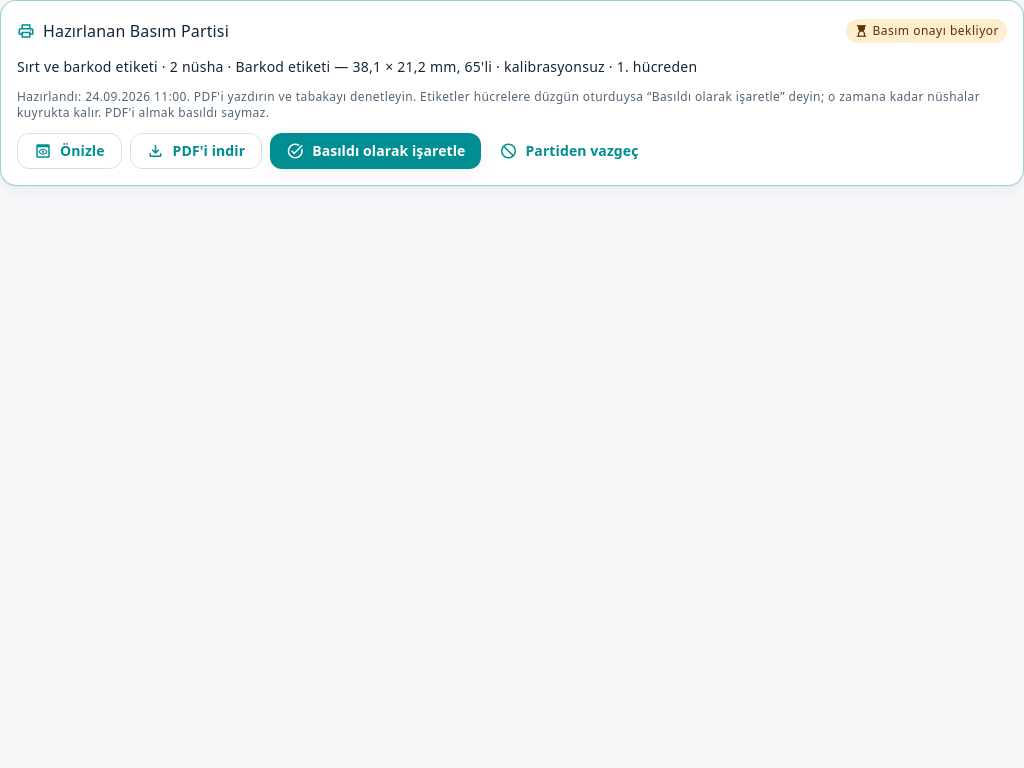
Test: BasimPartisiKarti › partiden vazgeçme onaylıdır; sunucu reddederse ileti gösterilir
What coordinates should you click on to do the following:
click the button "Partiden vazgeç"
I would click on:
 (569, 151)
Its box is [490, 133, 648, 169].
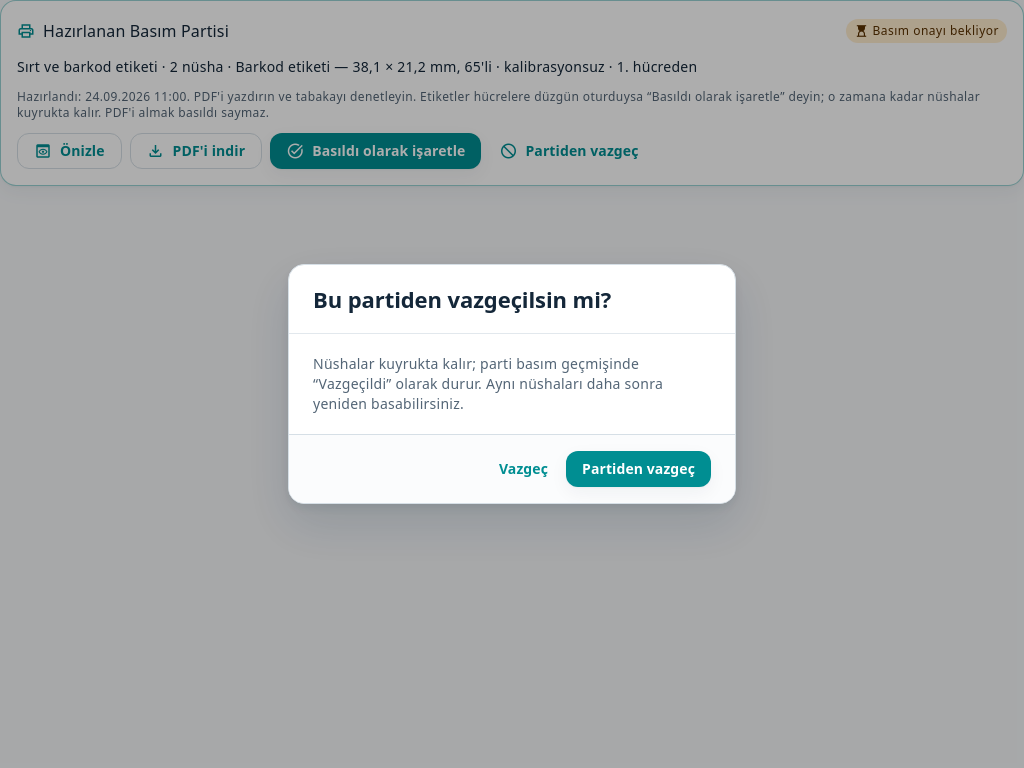
What coordinates should you click on to do the following:
click the button "Partiden vazgeç"
I would click on:
 (638, 469)
Its box is [566, 451, 711, 487].
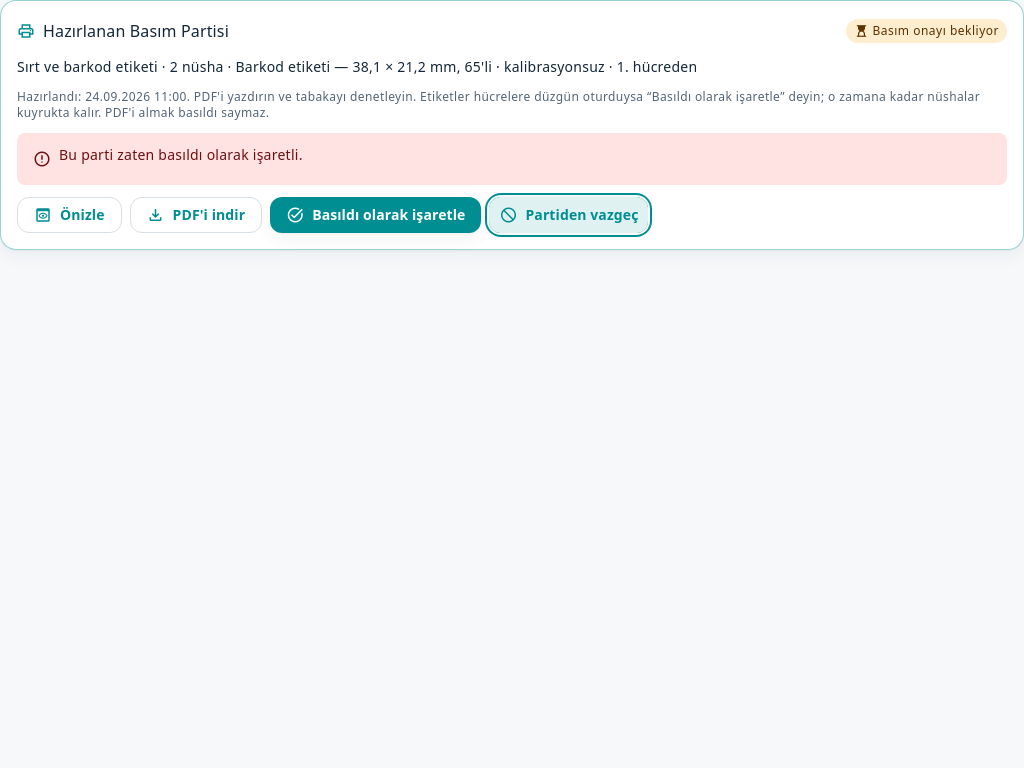
expect the text "Bu parti zaten basıldı olarak işaretli." is shown: met, box [59, 145, 303, 165]
